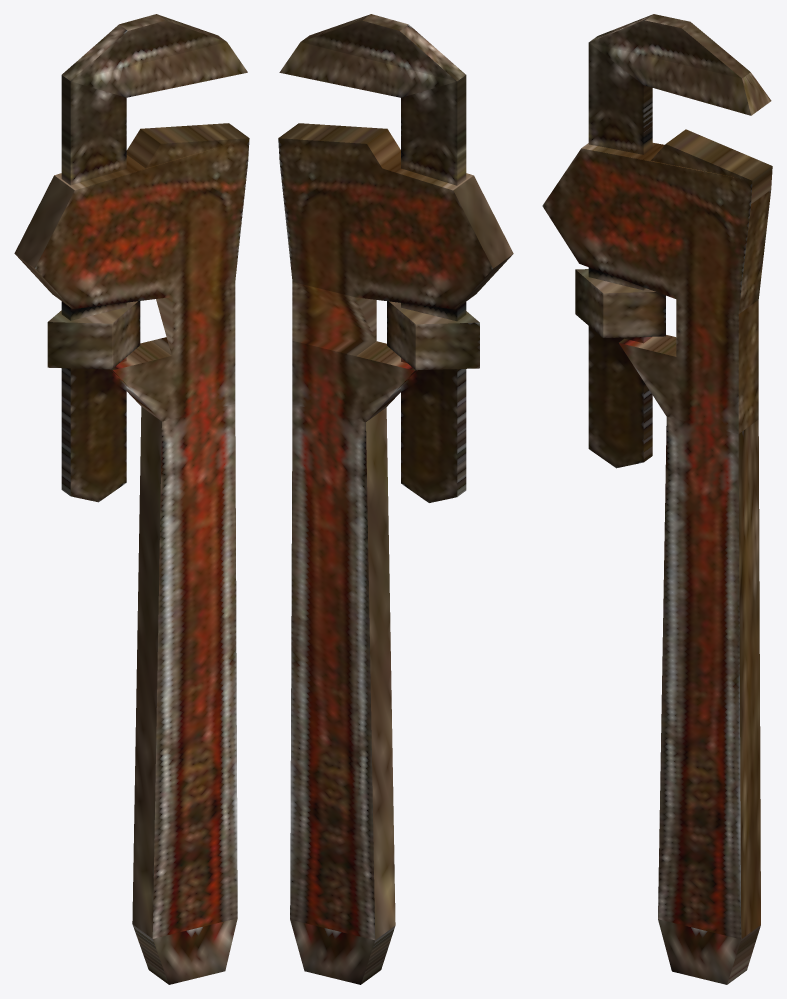
Rendered from tool_pipe_wrench.fbx.
The picture shows the model from 3 angles, left to right: view 1: azimuth 30°, elevation 25°; view 2: azimuth 150°, elevation 25°; view 3: azimuth 330°, elevation 25°; orthographic projection. The views are drawn at different scales.
Visible parts, largest first — view 1: PipeWrench; view 2: PipeWrench; view 3: PipeWrench.
Boxes of the visible parts, x1,y1,x2,y2 form: PipeWrench: (14, 14, 249, 984); PipeWrench: (278, 14, 513, 984); PipeWrench: (542, 14, 772, 984).
Bounding box in the file's own units: 59.46 × 254 × 17.13.
1 material, 1 textured.
